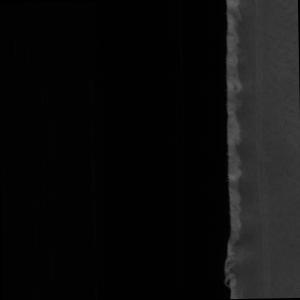Damage: (214, 1, 251, 300)
